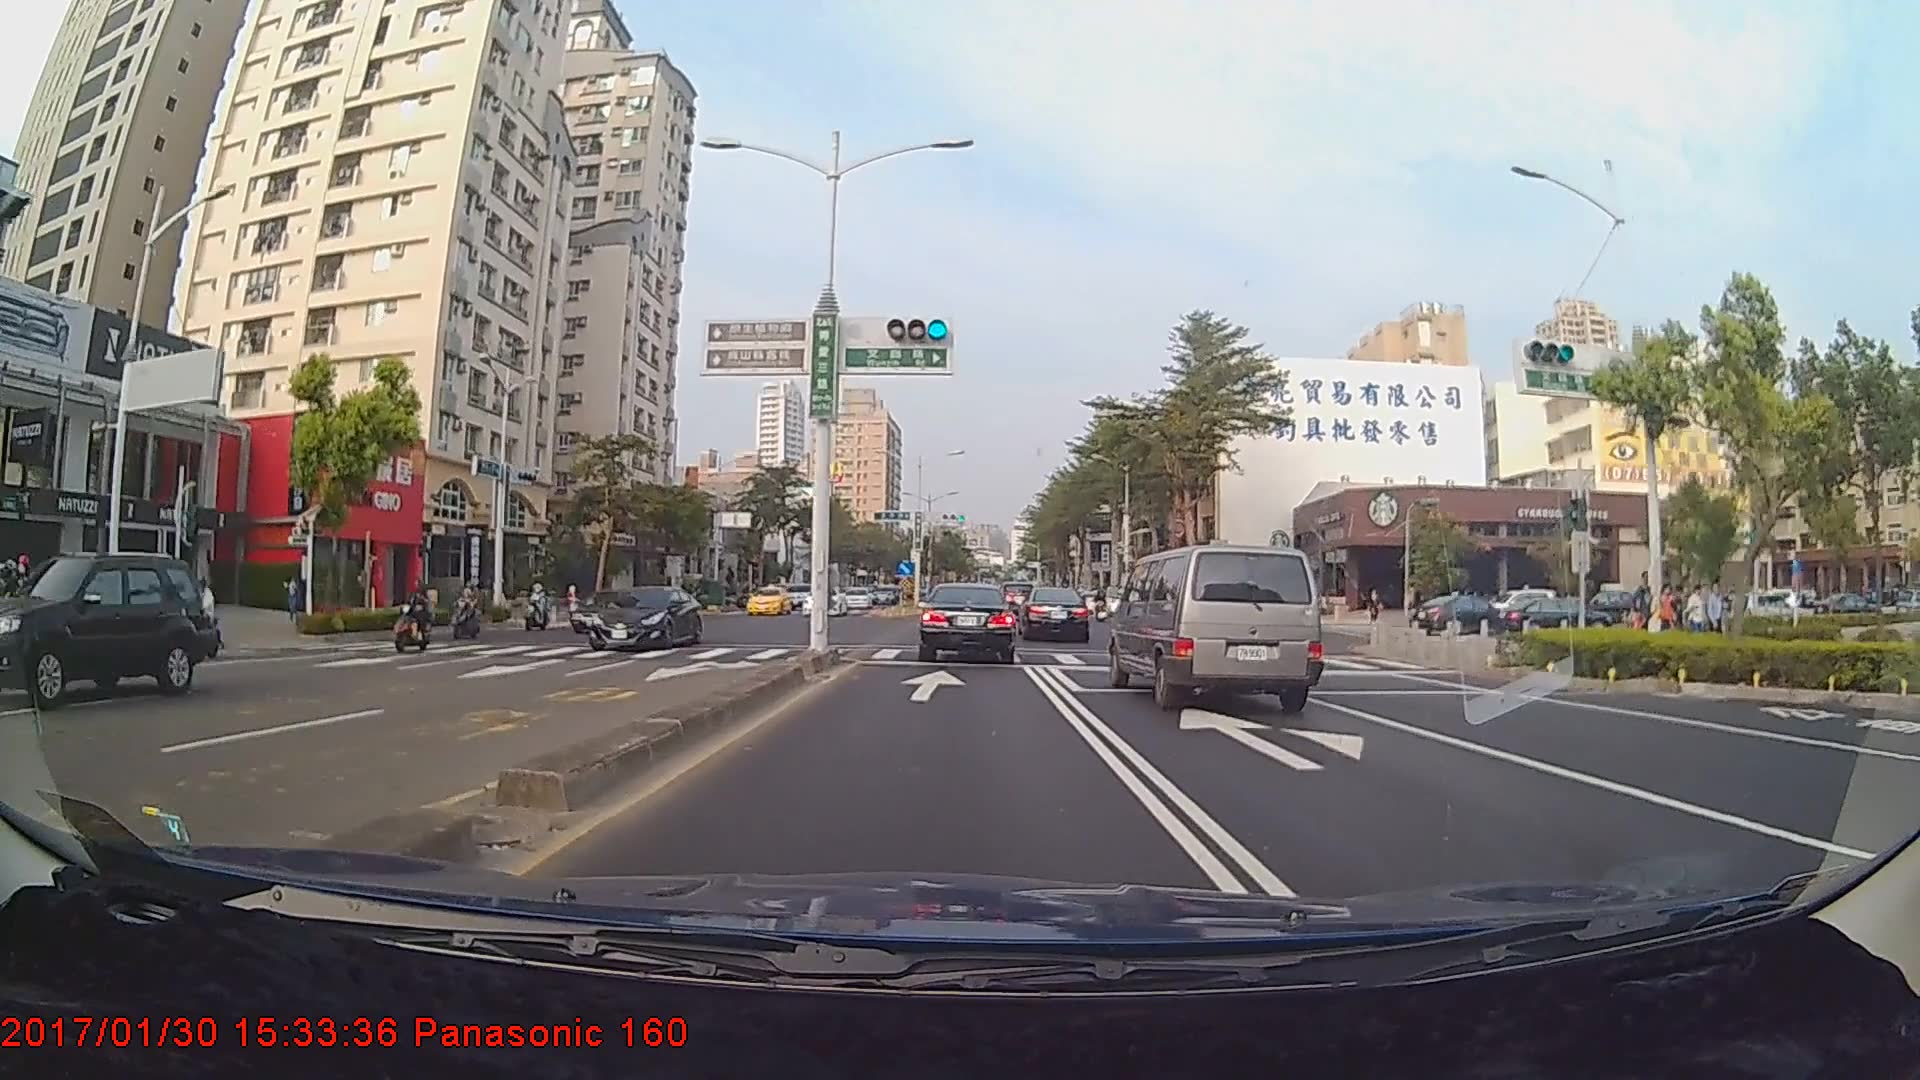pedestrian: (1633, 572, 1656, 645), (1704, 584, 1728, 649), (1689, 583, 1709, 647), (1658, 585, 1678, 643)
rider: (382, 576, 439, 660), (443, 578, 489, 645)
vehicle: (1126, 542, 1326, 713), (0, 550, 219, 705), (918, 582, 1017, 660), (588, 586, 703, 651), (569, 584, 659, 631), (1411, 593, 1504, 637), (1019, 586, 1090, 642), (799, 581, 850, 614), (744, 585, 793, 617), (841, 588, 873, 612)
